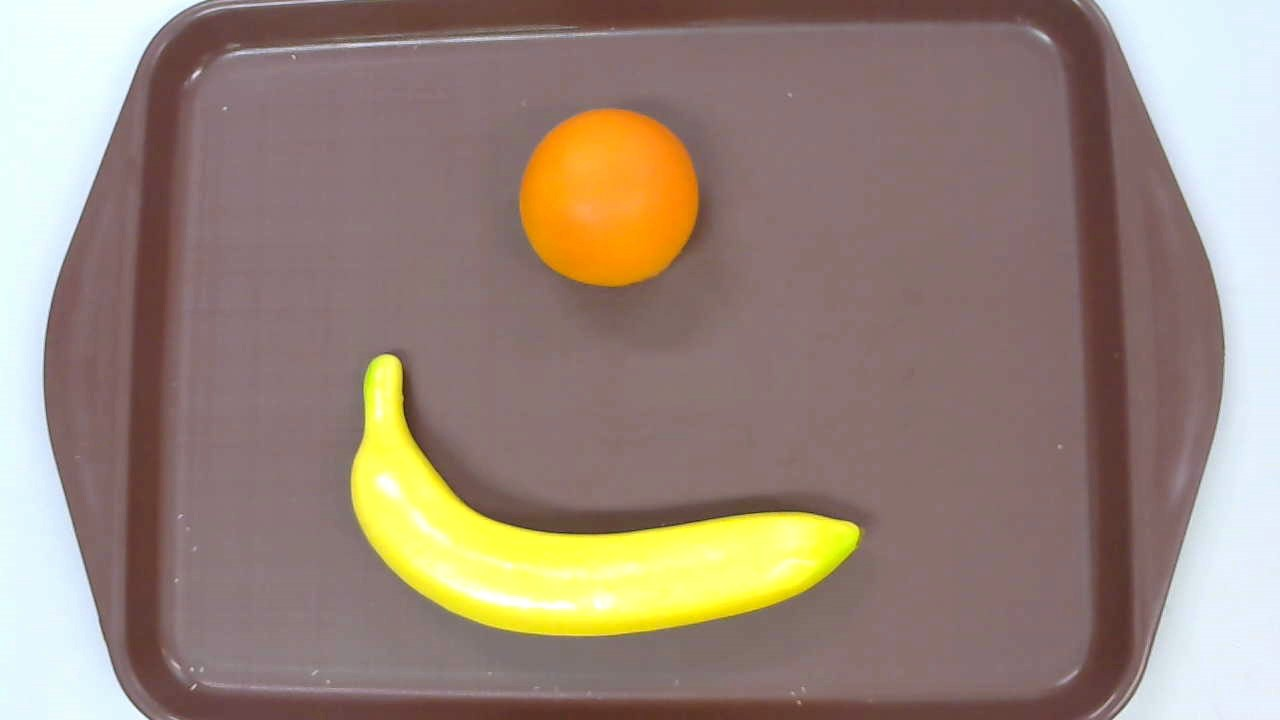banana: (350, 353, 862, 638)
bun: (518, 107, 698, 287)
